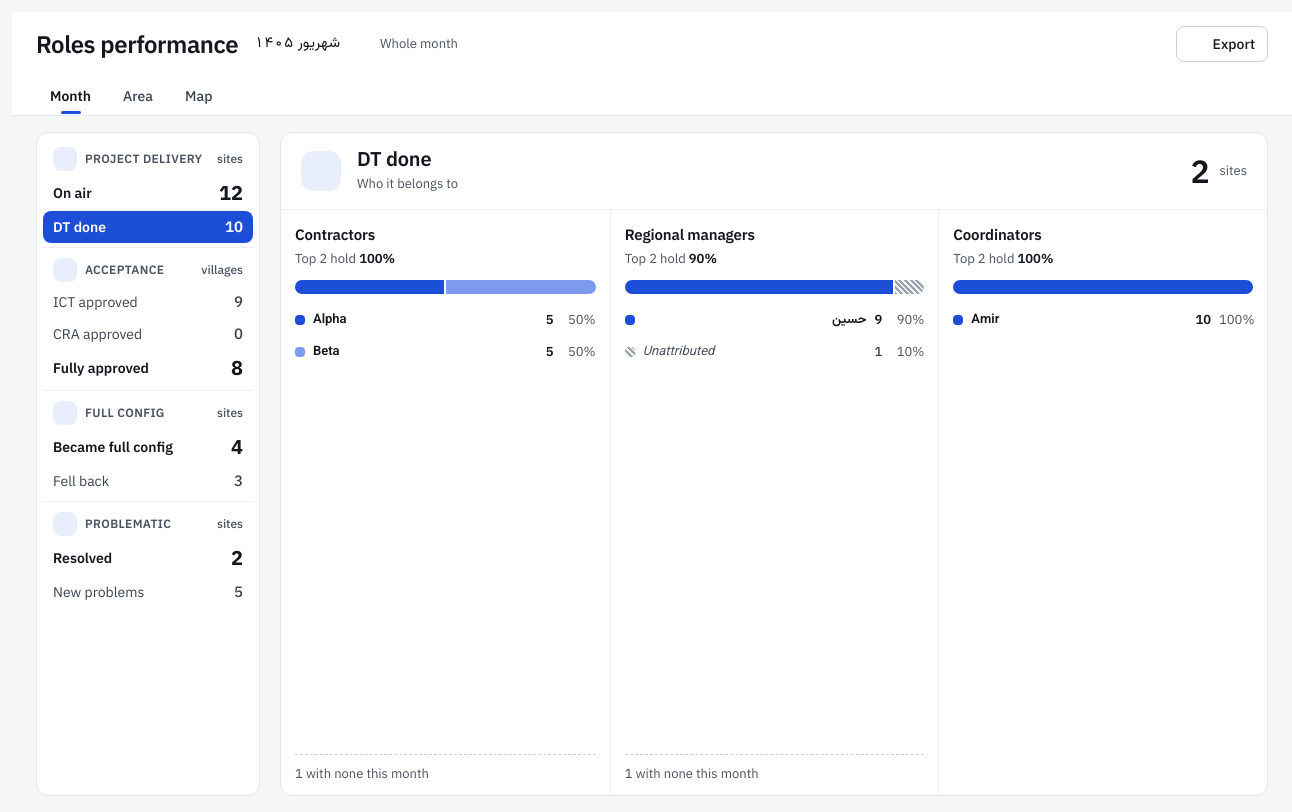
Scenario: Month › respects ?measure= and keeps the choice in the URL
expect the heading "DT done" is shown: met, box [357, 145, 431, 172]
Click the button "New problems 5" at (148, 592), box [43, 576, 253, 608]
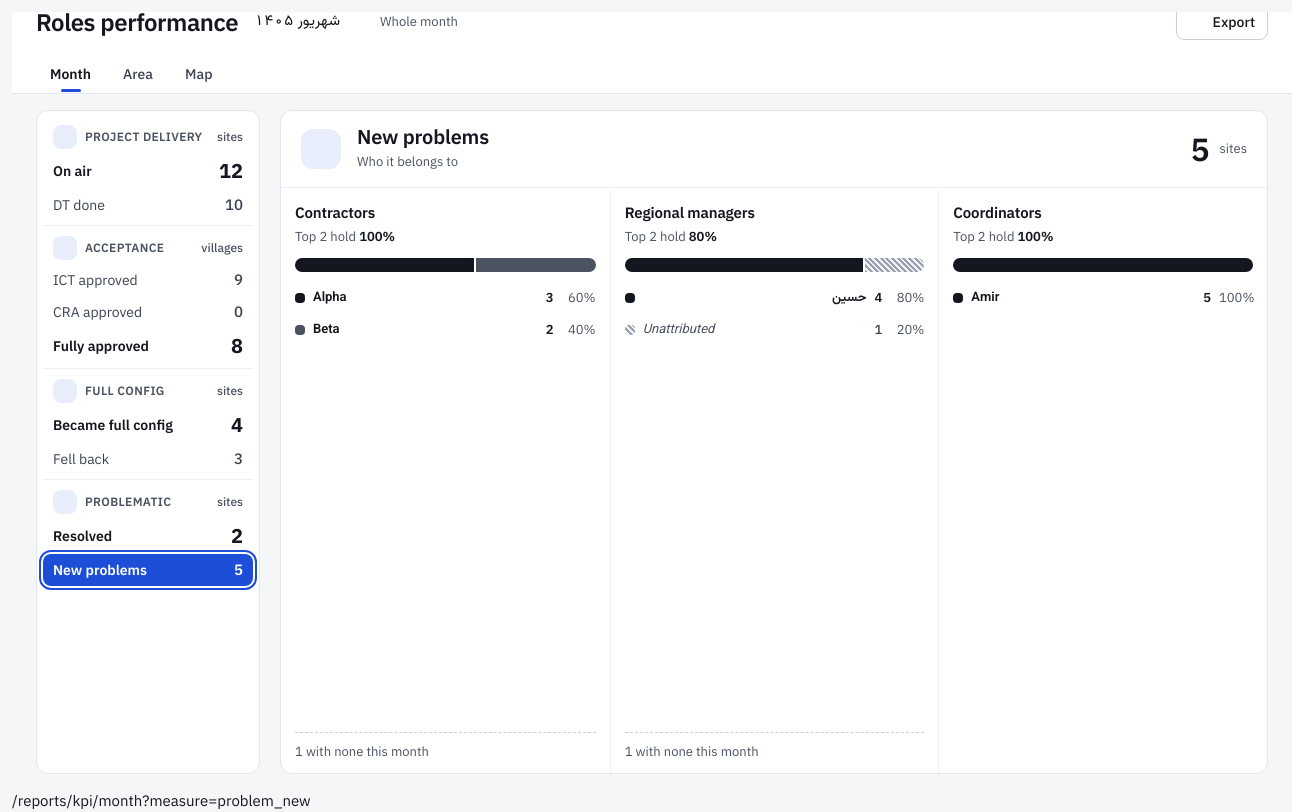
expect the text with test id "where" shows "measure=problem_new": met, box [12, 791, 311, 810]
